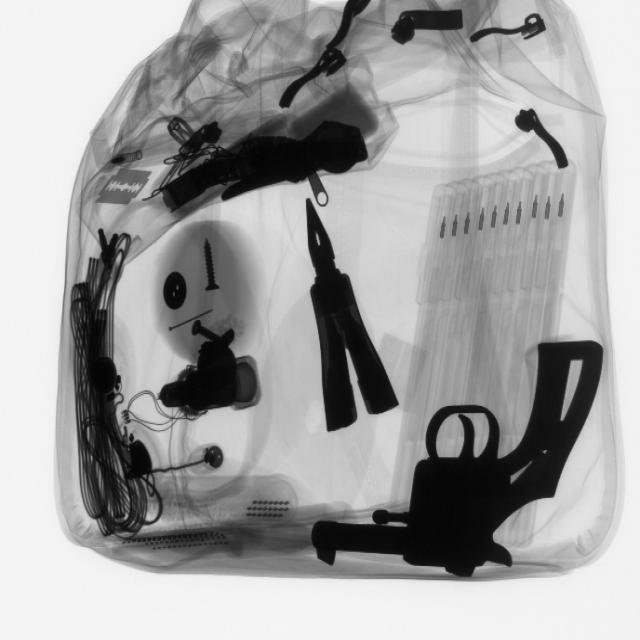BLADE: (95, 162, 153, 213)
GUN: (310, 336, 606, 573)
SCREW: (188, 231, 234, 301)
